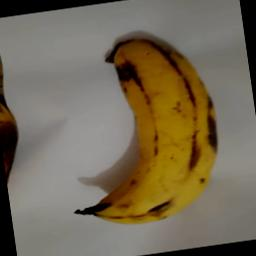Banana Unripe: (46, 24, 234, 235)
